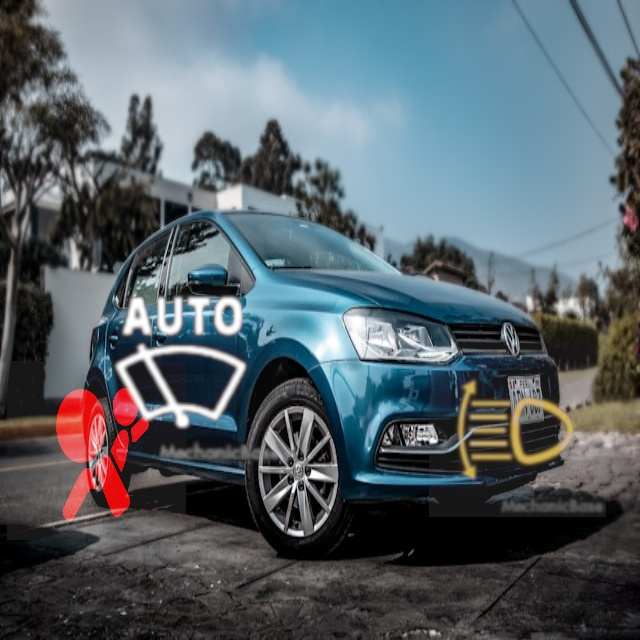symbol: (77, 259, 288, 470), (7, 361, 186, 540), (429, 340, 606, 517)
